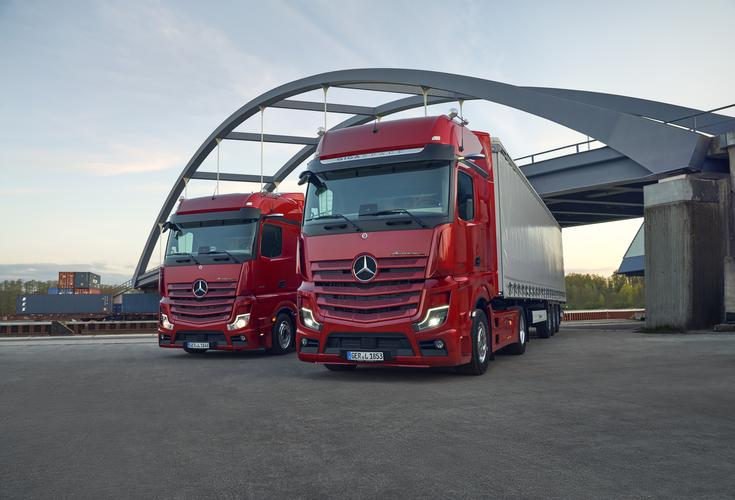卡车: (297, 114, 572, 377), (150, 185, 298, 362)
